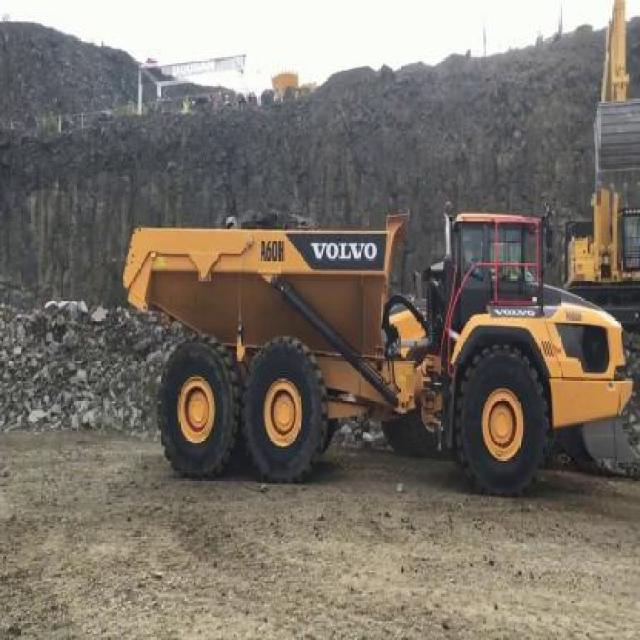Dump Truck: (118, 197, 633, 498)
Excavator: (561, 3, 639, 322)
